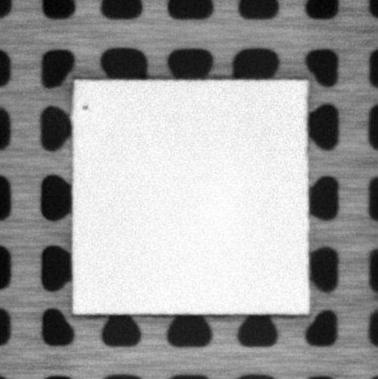DIE_INK: (79, 103, 90, 111)
